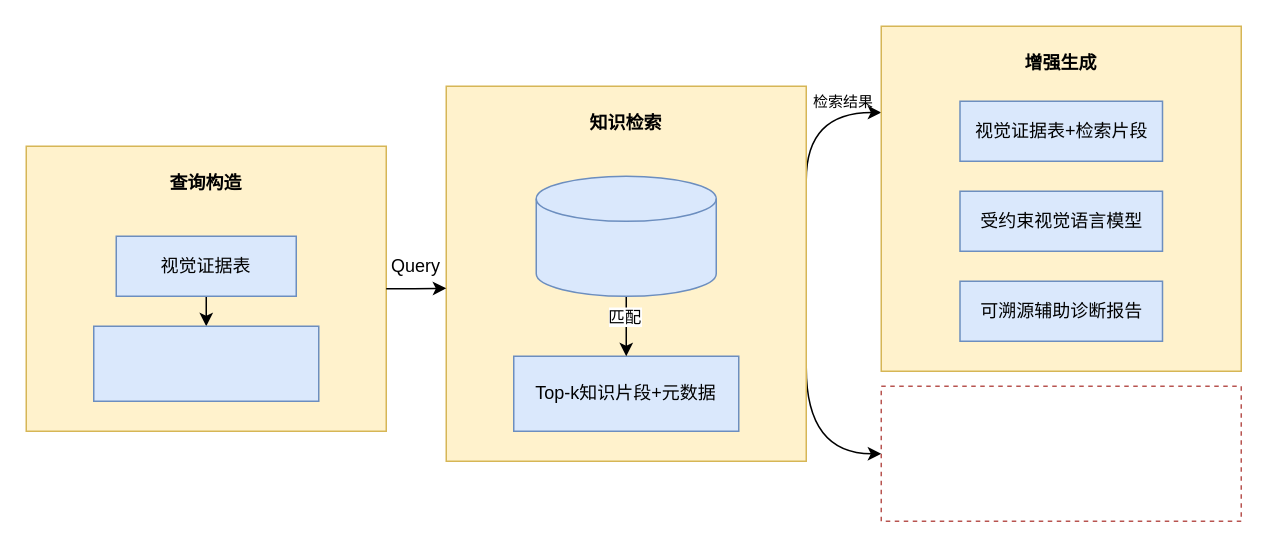
Image size: 1268x548. Some labels were removed from this diagram. Here are the shapes that lost their labels. From the top down, the centre of each, then its label:
At (625,235): "氟斑牙分级鉴别知识库".
At (205,363): "提取：部位+征象+否定".
At (1060,453): "RAG约束 1. 仅补充鉴别，不替代图像证据 2. 未核验知识不入库".
